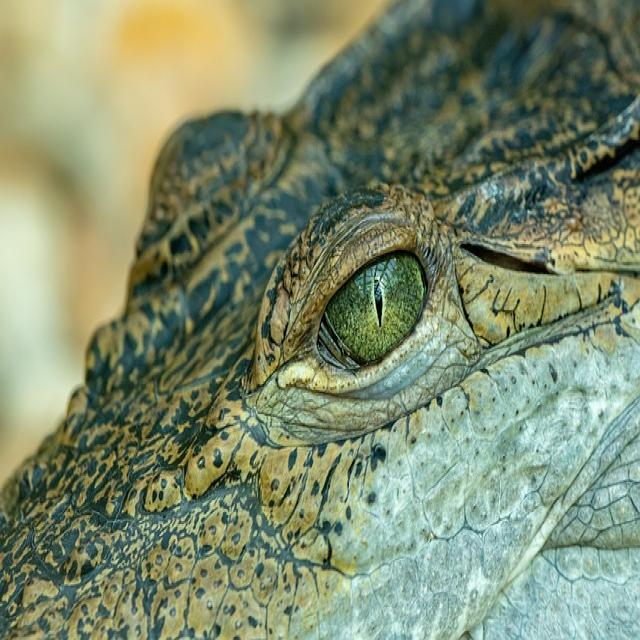Carnivorous: (0, 0, 640, 640)
